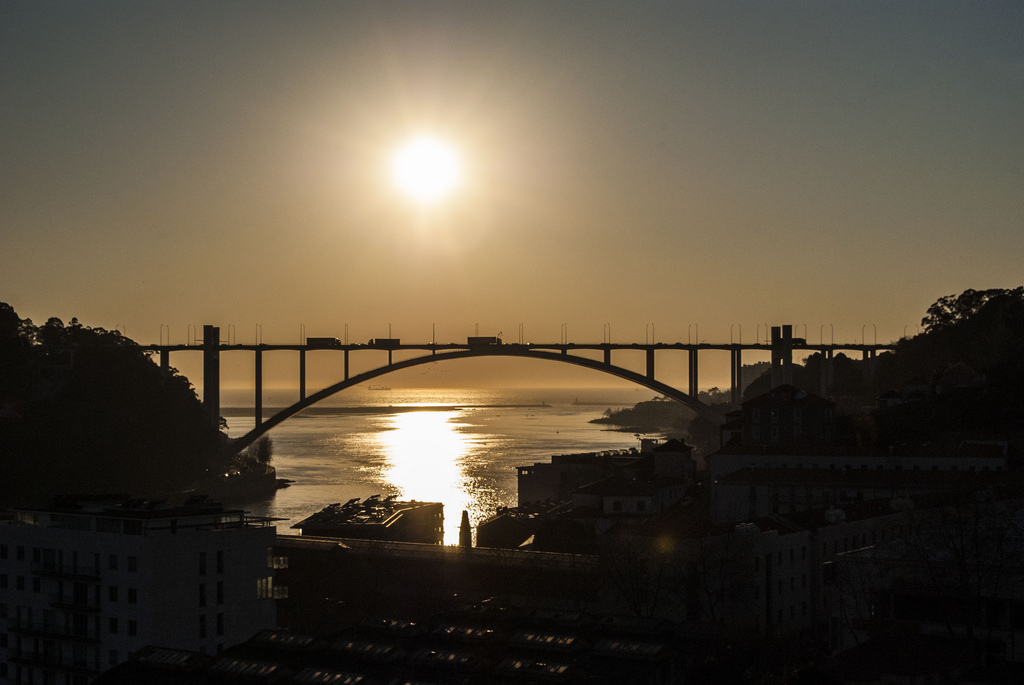arrabida: (119, 321, 903, 455)
